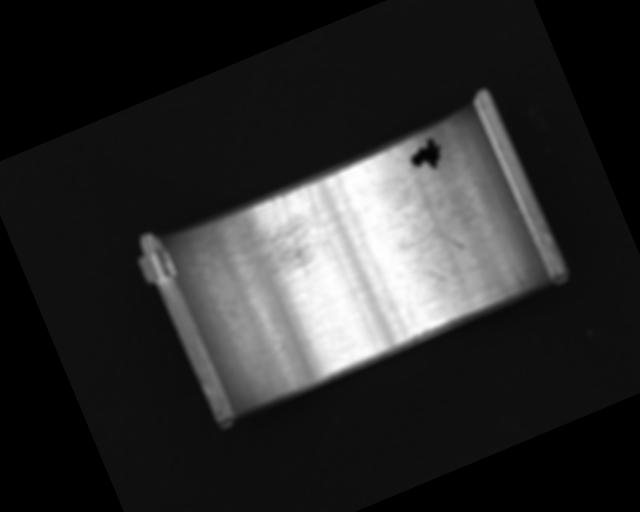blot: (404, 134, 450, 178)
bruise: (426, 260, 458, 293)
nick: (404, 196, 465, 264)
scratch: (194, 181, 343, 309)
